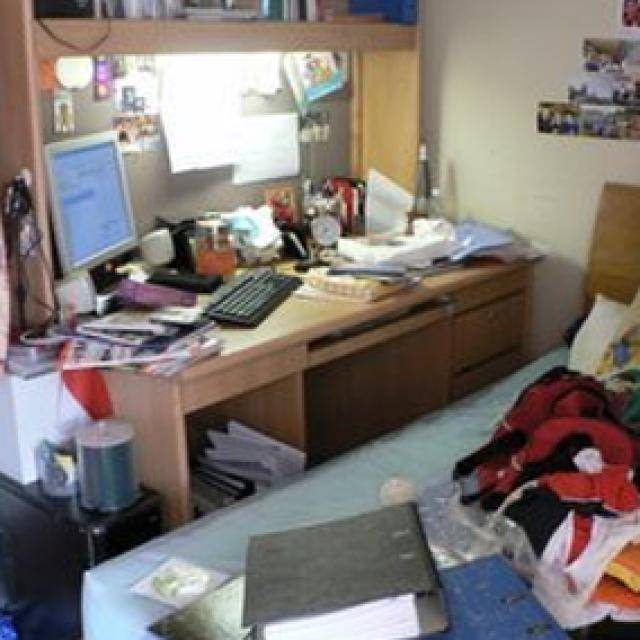mess: (480, 369, 640, 640), (138, 213, 458, 335)
